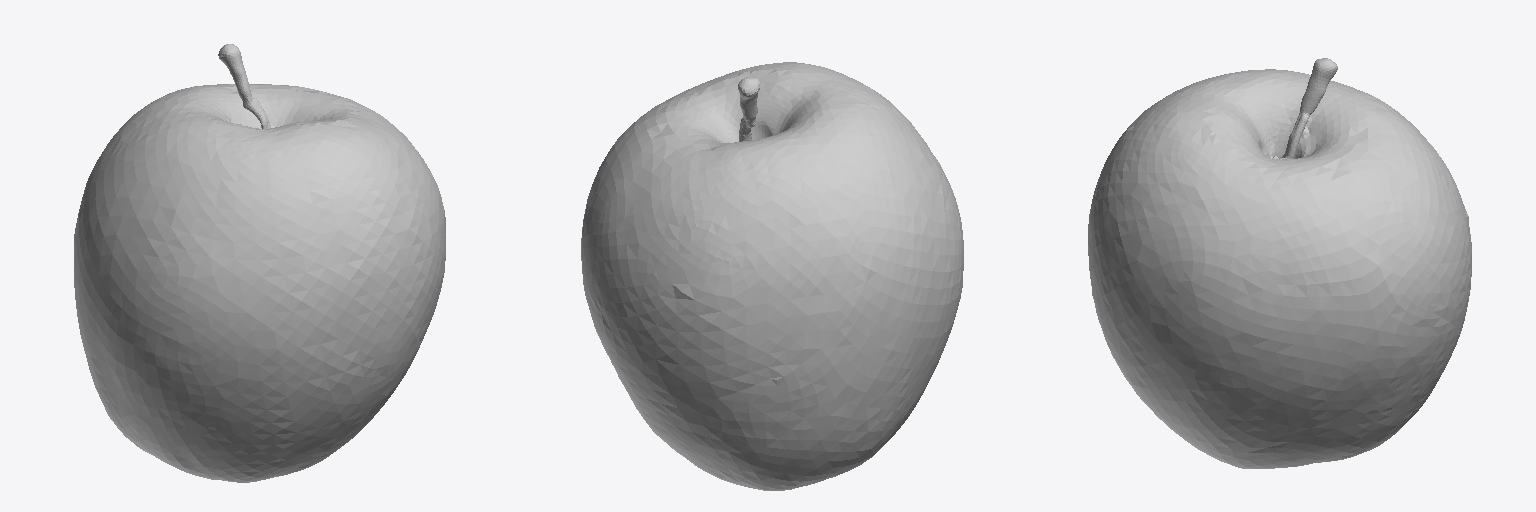
File: apple textured obj.obj
3 renders of one model, left to right at view 1: azimuth 30°, elevation 25°; view 2: azimuth 150°, elevation 25°; view 3: azimuth 270°, elevation 25°, orthographic.
Parts seen in each view (by area): view 1: objapple; view 2: objapple; view 3: objapple.
Boxes of the visible parts, <box> form: objapple: <box>74,44,445,482</box>; objapple: <box>581,62,963,490</box>; objapple: <box>1088,58,1471,468</box>.
Bounding box in the file's own units: 66.34 × 76.39 × 68.08.